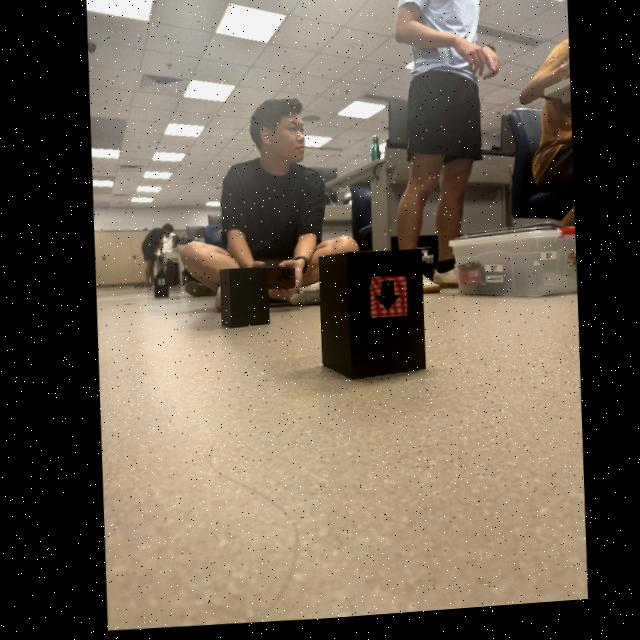DOWN: (371, 287, 396, 315)
